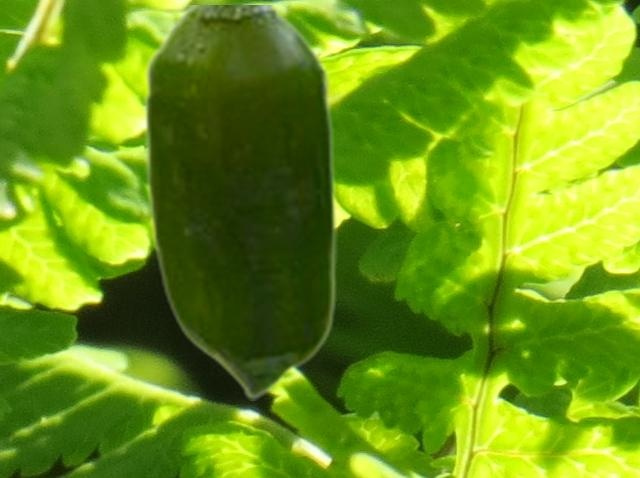green_chili: (142, 5, 336, 399)
